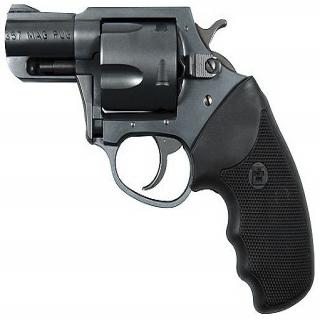gun: (2, 3, 315, 306)
